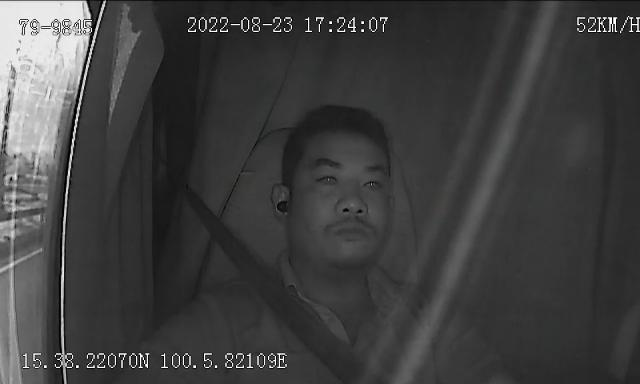SafeDriving: (311, 162, 344, 194), (356, 167, 390, 196)
Seatbelt: (175, 174, 389, 384)
